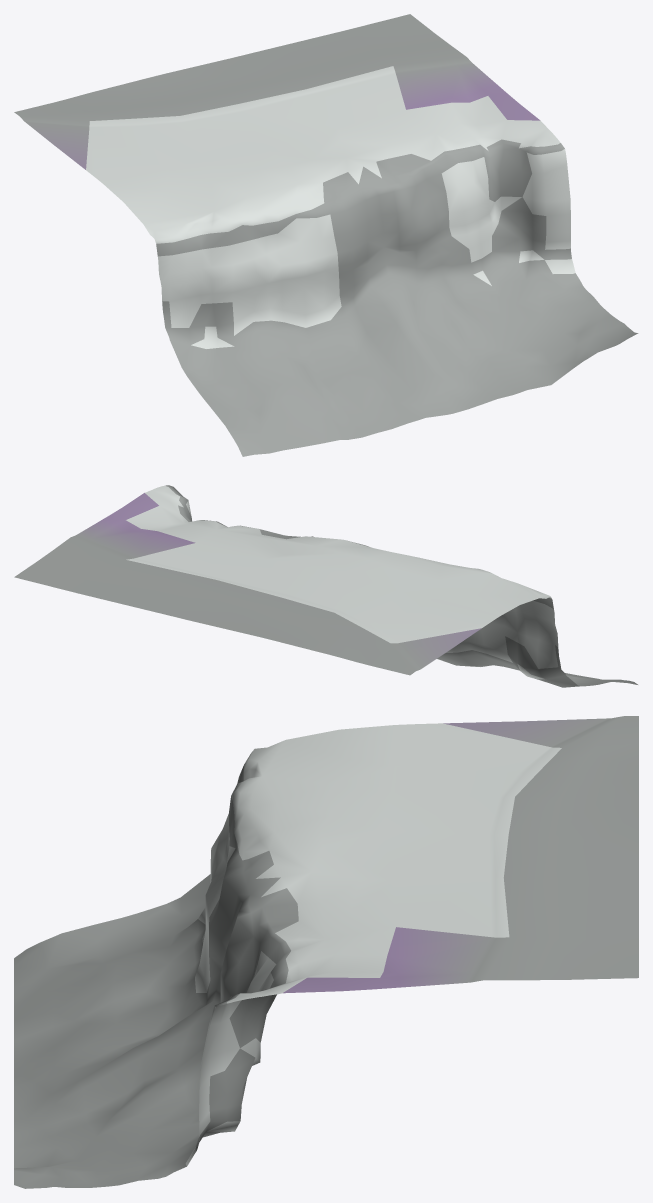
3 renders of one model, top to bottom at view 1: azimuth 30°, elevation 25°; view 2: azimuth 150°, elevation 25°; view 3: azimuth 270°, elevation 25°, orthographic. The views are drawn at different scales.
Visible parts, largest first — view 1: G:\FFXIV-MapTools\exports\m5f1\bg\ex4\02_mid_m5\fld\m5f1\bgp (×11); view 2: G:\FFXIV-MapTools\exports\m5f1\bg\ex4\02_mid_m5\fld\m5f1\bgp (×10); view 3: G:\FFXIV-MapTools\exports\m5f1\bg\ex4\02_mid_m5\fld\m5f1\bgp (×10).
Part boxes in pixels (box(x1,y1,x2,y2)): G:\FFXIV-MapTools\exports\m5f1\bg\ex4\02_mid_m5\fld\m5f1\bgp (×11): box(14, 14, 638, 456); G:\FFXIV-MapTools\exports\m5f1\bg\ex4\02_mid_m5\fld\m5f1\bgp (×10): box(14, 485, 637, 687); G:\FFXIV-MapTools\exports\m5f1\bg\ex4\02_mid_m5\fld\m5f1\bgp (×10): box(14, 716, 638, 1188).
Bounding box in the file's own units: 128 × 58.25 × 128.
